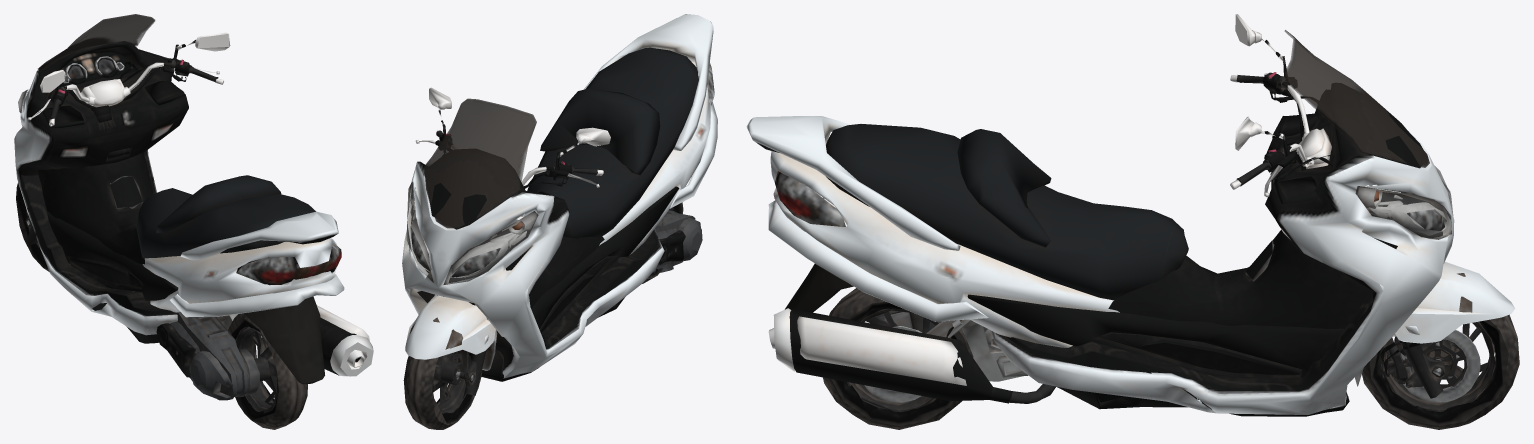
Rendered from v_sky.glb.
3 views of the same model, side by side, from view 1: azimuth 30°, elevation 25°; view 2: azimuth 150°, elevation 25°; view 3: azimuth 270°, elevation 25° (orthographic). The views are drawn at different scales.
Parts seen in each view (by area): view 1: low_model_LPoly_0, low_model_LPoly2(back_detail)_0; view 2: low_model_LPoly_0; view 3: low_model_LPoly_0, low_model_LPoly2(back_detail)_0.
Part boxes in pixels (<box>): low_model_LPoly_0: <box>14,14,373,429</box>; low_model_LPoly2(back_detail)_0: <box>243,296,324,384</box>; low_model_LPoly_0: <box>402,14,717,429</box>; low_model_LPoly_0: <box>746,14,1519,429</box>; low_model_LPoly2(back_detail)_0: <box>785,263,853,312</box>.
Size of the model in its own units: 0.9653 by 1.42 by 2.6.
2 materials, 2 textured.
